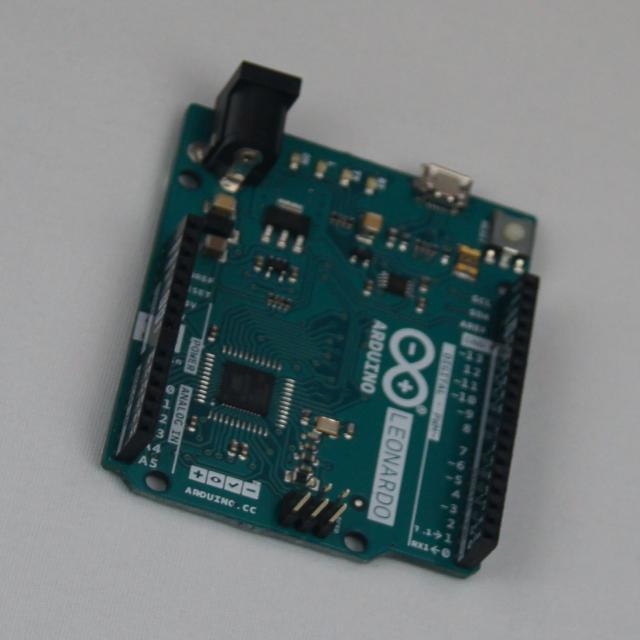Arduino-leonardo: (103, 63, 539, 577)
